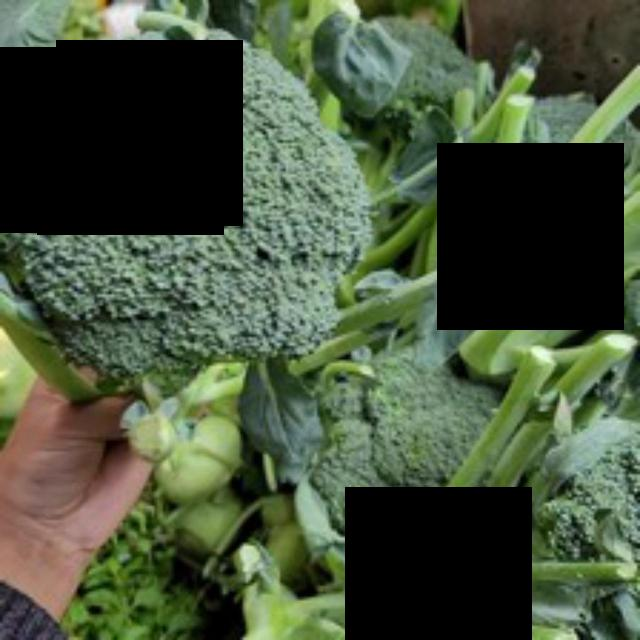broccoli: (0, 21, 371, 402)
